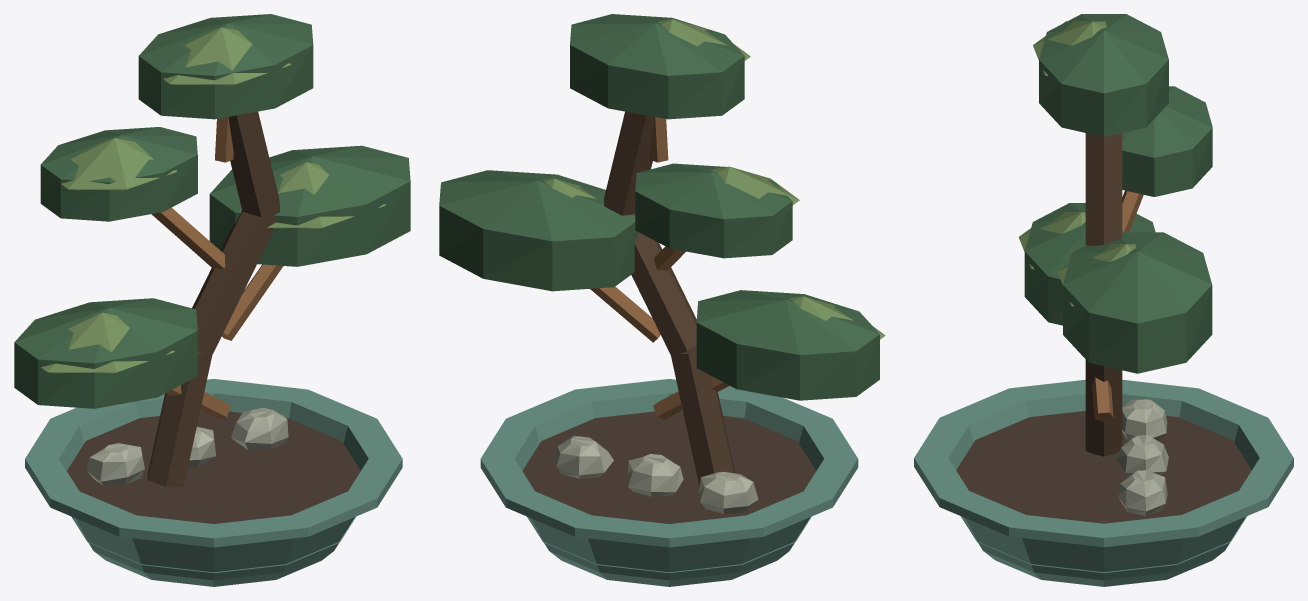
Rendered from decor_pot_pine.glb.
3 renders of one model, left to right at view 1: azimuth 30°, elevation 25°; view 2: azimuth 150°, elevation 25°; view 3: azimuth 270°, elevation 25°, orthographic.
Visible parts, largest first — view 1: geometry; view 2: geometry; view 3: geometry.
Boxes of the visible parts, x1,y1,x2,y2 form: geometry: (14, 14, 410, 586); geometry: (439, 14, 885, 586); geometry: (914, 14, 1293, 586).
Size of the model in its own units: 0.8401 by 1.01 by 0.6784.
